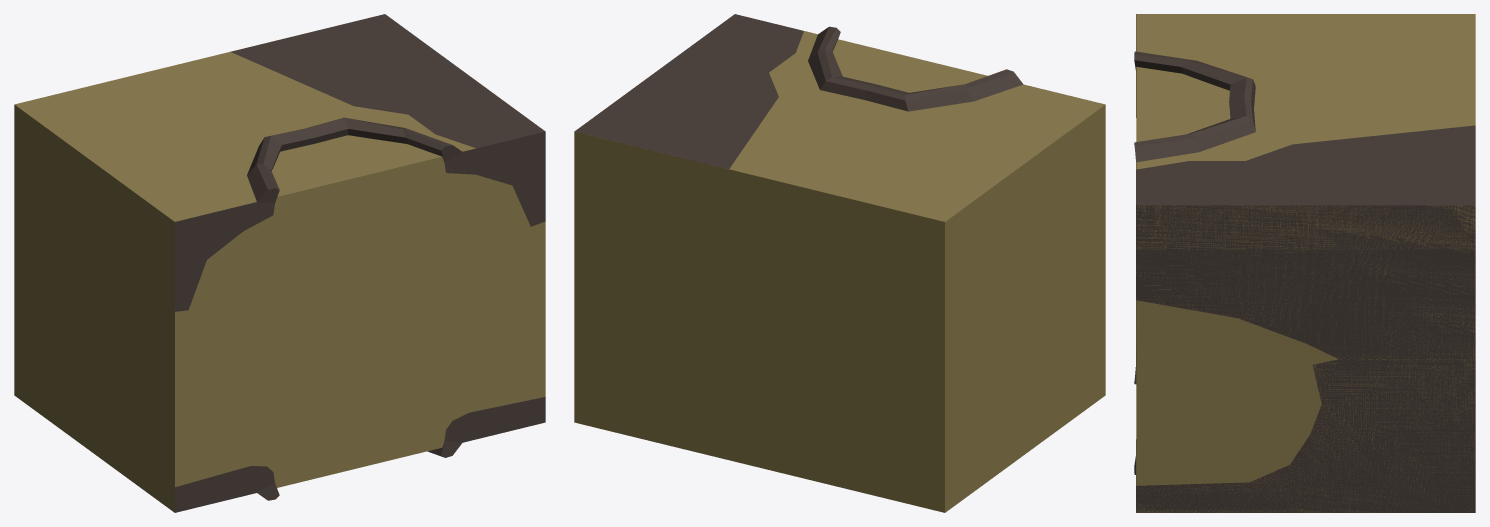
File: main_shaft.FBX
3 views of the same model, side by side, from view 1: azimuth 30°, elevation 25°; view 2: azimuth 150°, elevation 25°; view 3: azimuth 270°, elevation 25° (orthographic). The views are drawn at different scales.
Parts seen in each view (by area): view 1: blank_room_shaft, main_shaft; view 2: blank_room_shaft, main_shaft; view 3: main_shaft, blank_room_shaft.
Part boxes in pixels (x1=…): blank_room_shaft: x1=14, y1=52, x2=545, y2=512; main_shaft: x1=175, y1=14, x2=545, y2=512; blank_room_shaft: x1=574, y1=31, x2=1105, y2=512; main_shaft: x1=574, y1=14, x2=1023, y2=168; main_shaft: x1=1134, y1=14, x2=1475, y2=512; blank_room_shaft: x1=1136, y1=14, x2=1475, y2=512.
Size of the model in its own units: 157 by 128 by 119.
